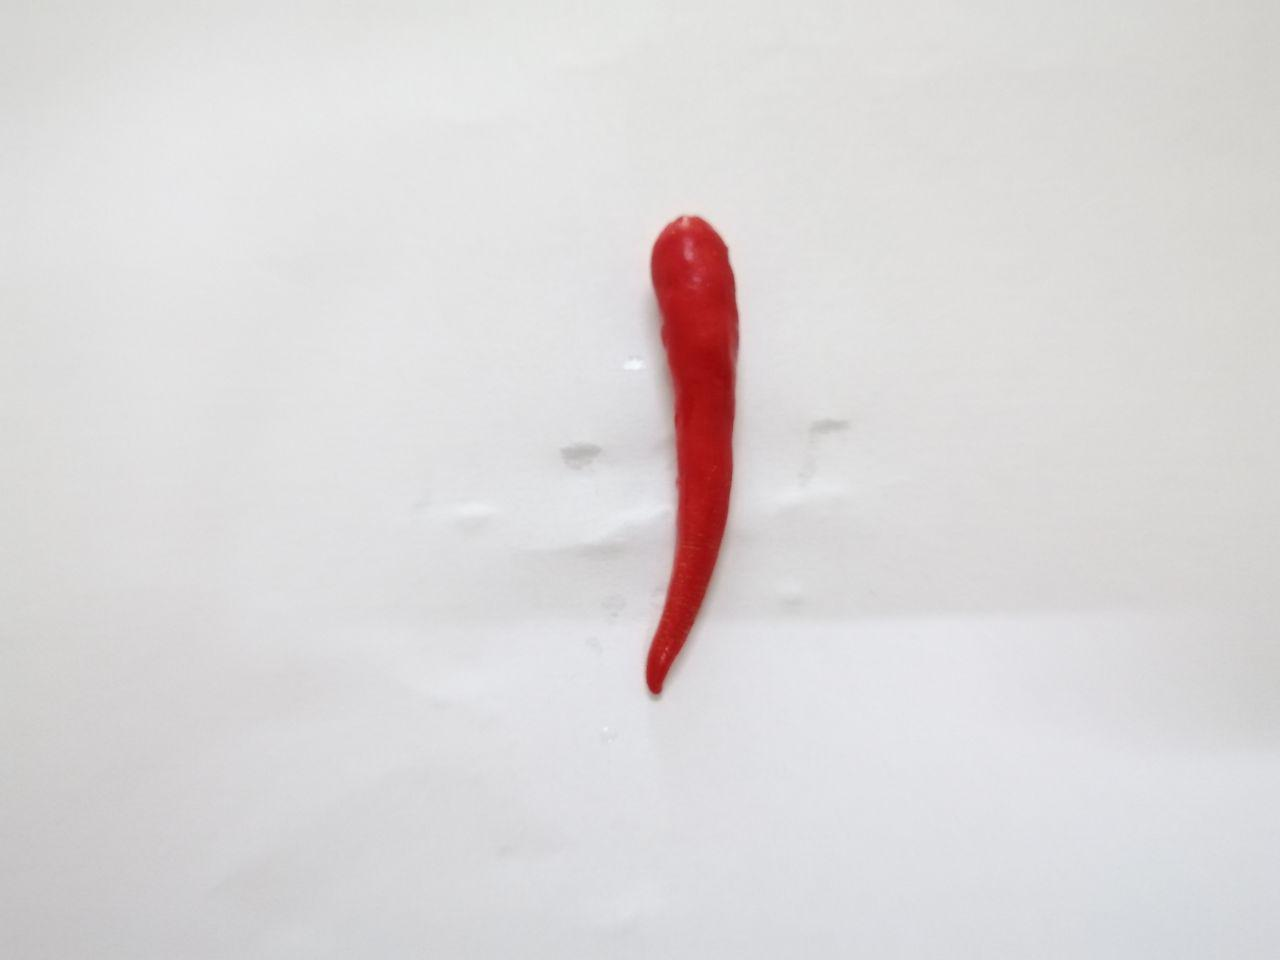lada merah: (594, 203, 772, 708)
